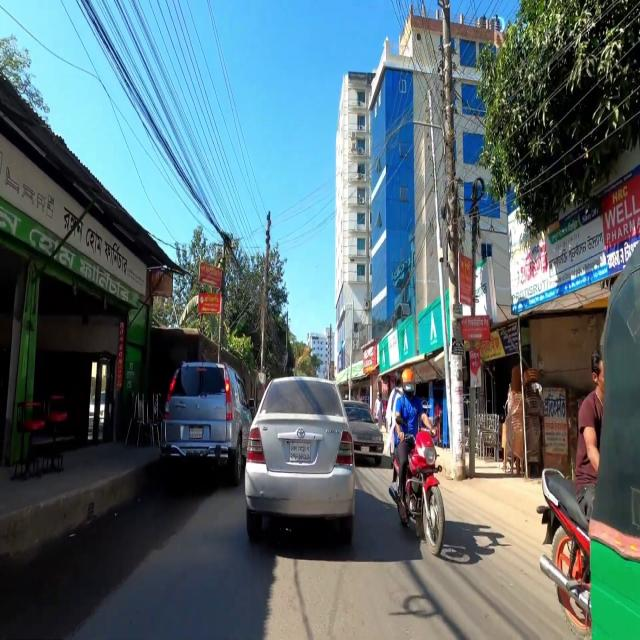black: (346, 391, 386, 464)
blue: (157, 358, 246, 482)
white: (247, 374, 345, 534)
